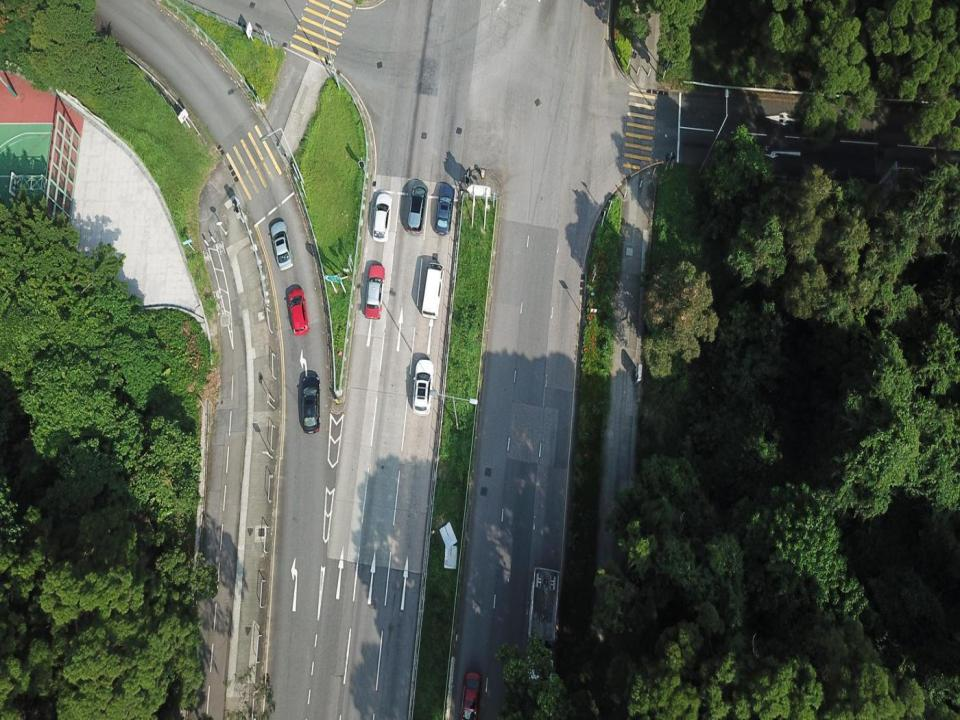car: (411, 359, 434, 417), (363, 264, 386, 320), (300, 375, 321, 434), (270, 221, 294, 272), (406, 185, 428, 236), (459, 671, 482, 719), (287, 288, 310, 336), (434, 185, 454, 236), (372, 192, 392, 242)
van: (421, 261, 444, 319)
